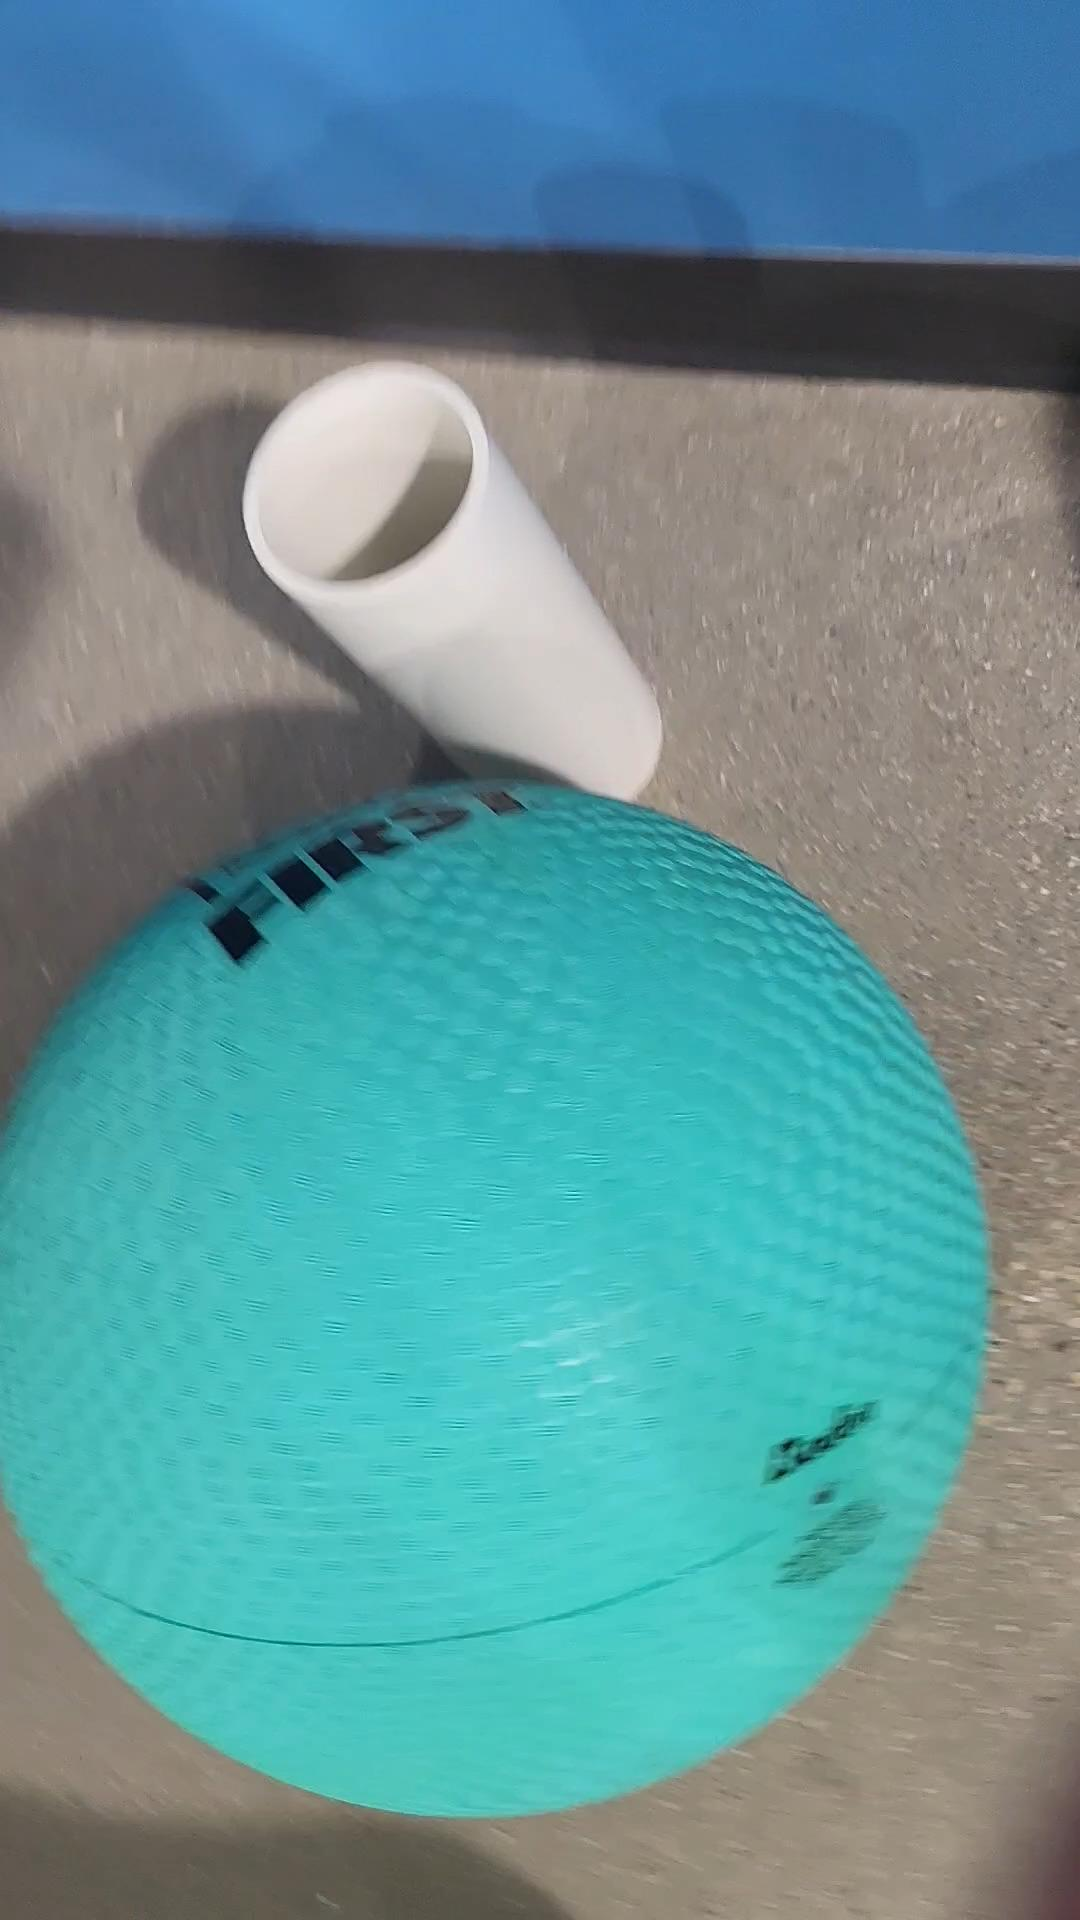algae: (0, 782, 988, 1812)
coral: (245, 357, 658, 807)
